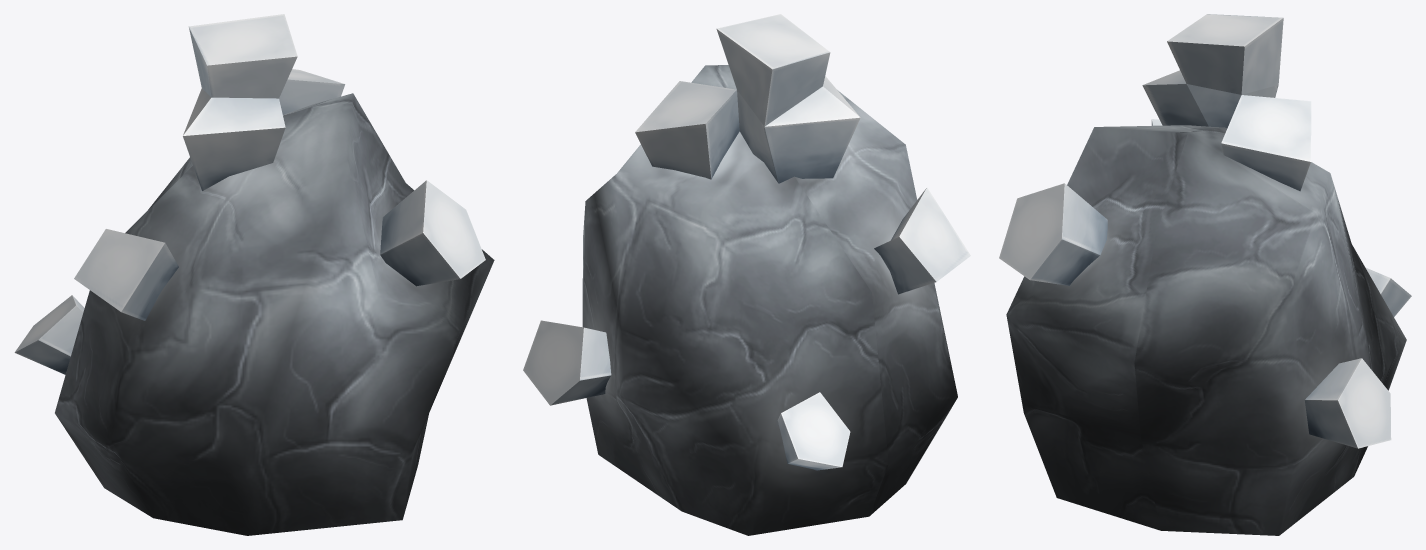
File: ore_medium_silver.fbx
3 renders of one model, left to right at view 1: azimuth 30°, elevation 25°; view 2: azimuth 150°, elevation 25°; view 3: azimuth 270°, elevation 25°, orthographic.
Parts seen in each view (by area): view 1: ore_medium_silver:Mesh; view 2: ore_medium_silver:Mesh; view 3: ore_medium_silver:Mesh.
Part boxes in pixels (x1,y1,x2,y2): ore_medium_silver:Mesh: (14,14,494,535); ore_medium_silver:Mesh: (523,14,970,535); ore_medium_silver:Mesh: (999,14,1411,535).
Size of the model in its own units: 3.89 by 4.44 by 3.78.
